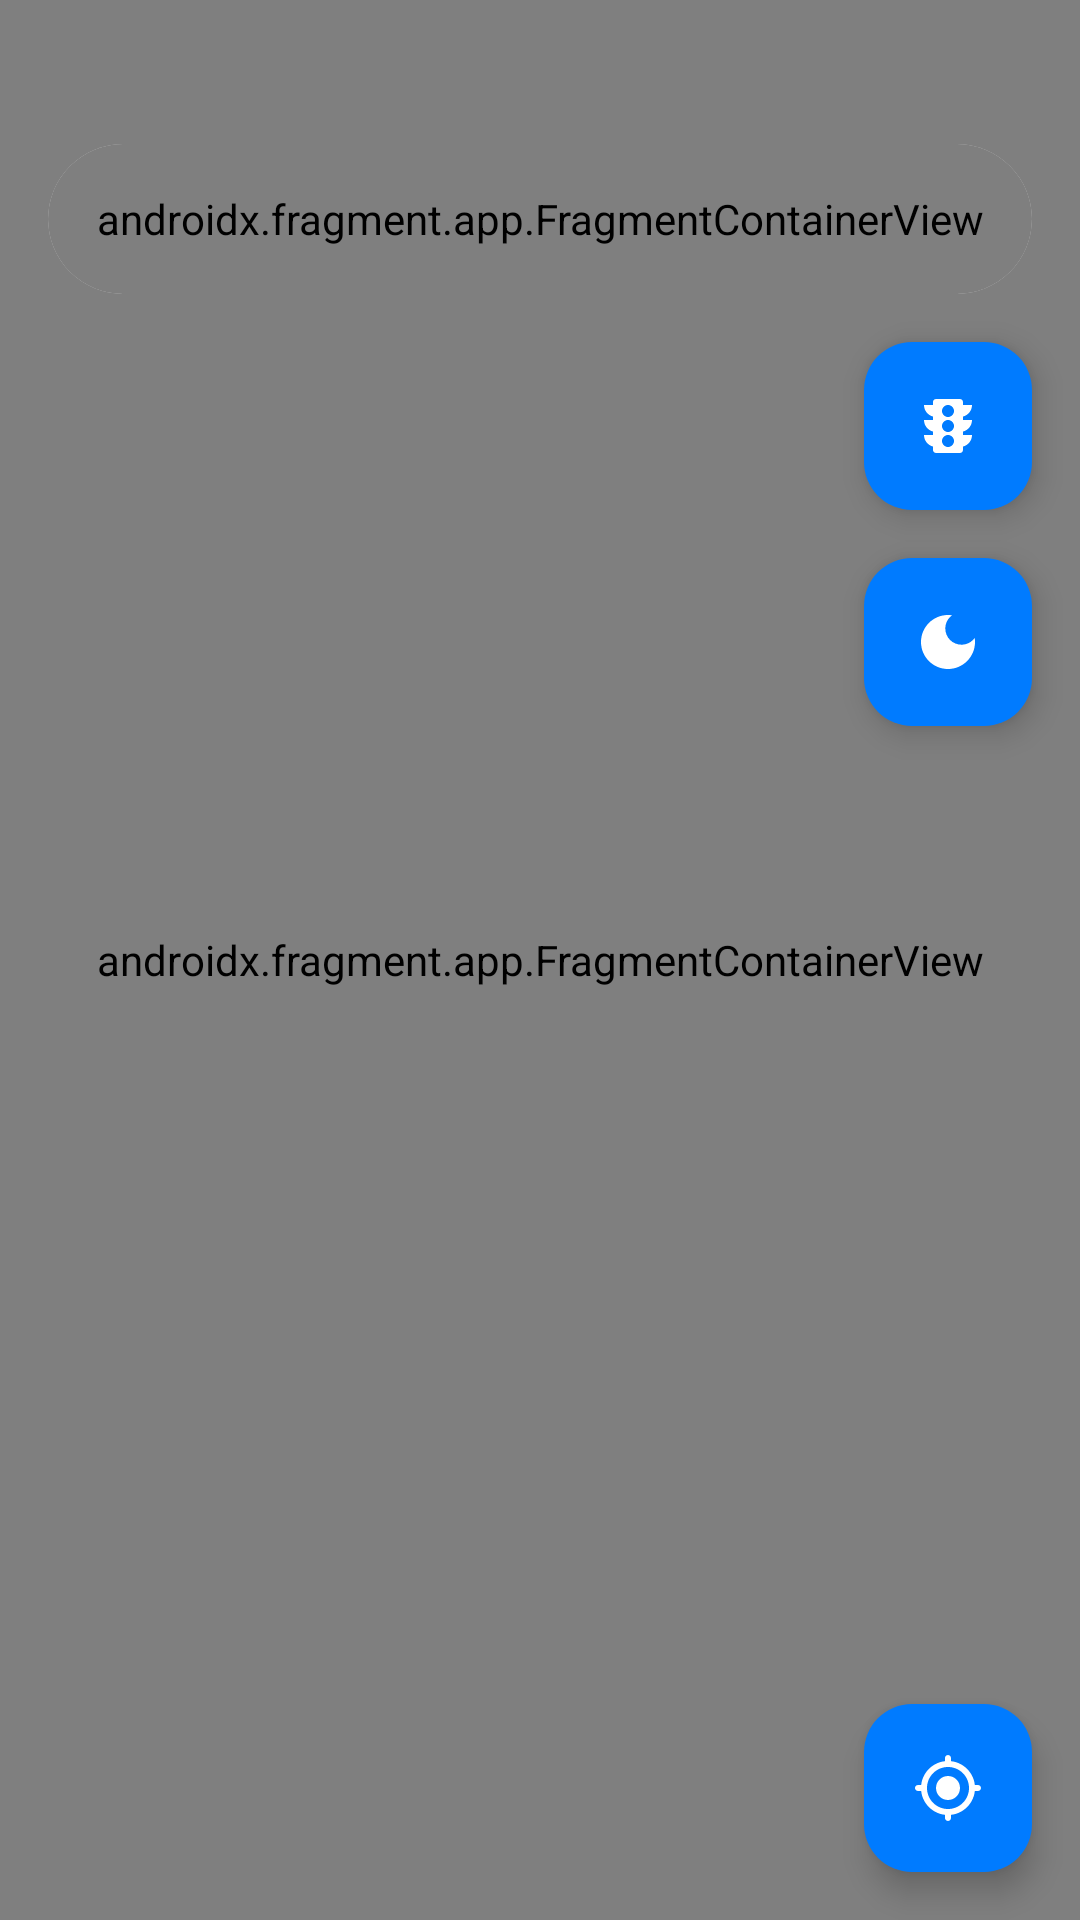

Icon bounding boxes for this 1080w x 1920h phone screenshot, format [x1=x1, y1=y1, x2=x2, y2=y2]:
Enable dark mode: [x1=864, y1=558, x2=1032, y2=726]
Enable my location: [x1=864, y1=1704, x2=1032, y2=1872]
Enable traffic: [x1=864, y1=342, x2=1032, y2=510]
